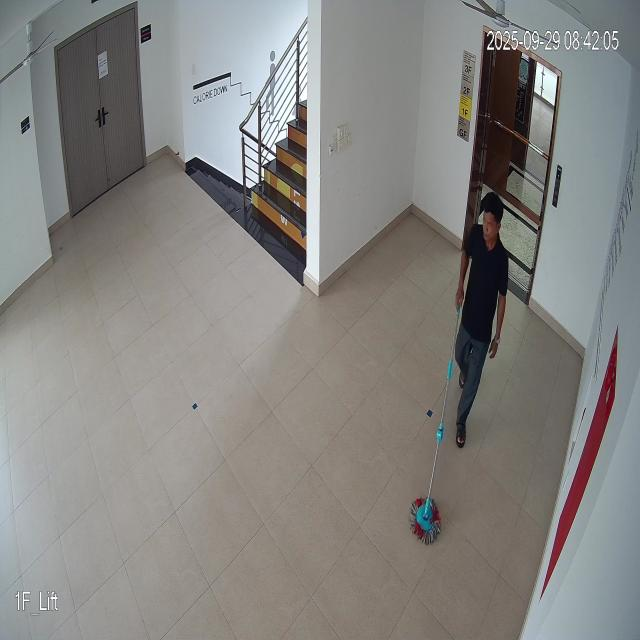face: (481, 189, 504, 246)
